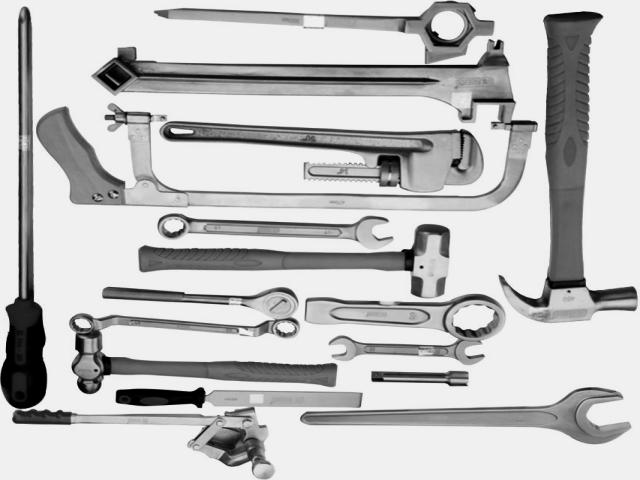Backsaw: (36, 107, 535, 211)
Hammer: (500, 12, 638, 322), (139, 225, 450, 298), (74, 331, 336, 393)
Ratchet: (102, 287, 299, 319)
Screwdriver: (0, 8, 46, 409)
Wrench: (301, 388, 631, 444), (305, 294, 505, 340), (158, 214, 392, 249), (70, 314, 300, 338), (329, 336, 485, 365)
